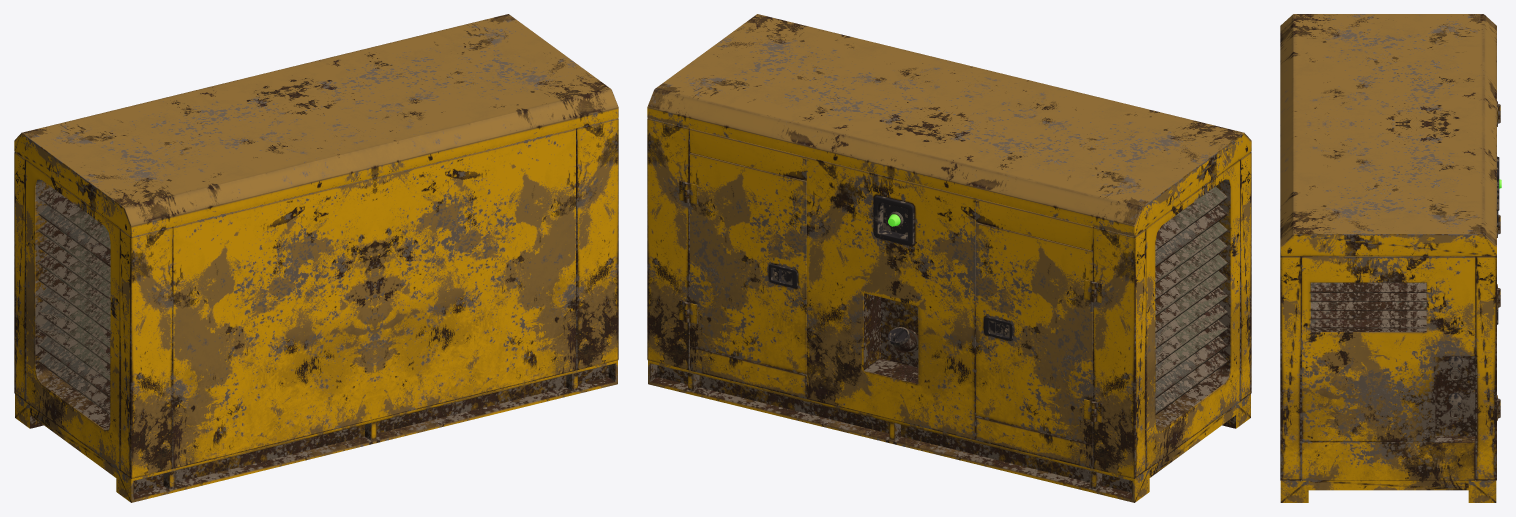
The model's file is SM_Genderator.fbx.
3 views of the same model, side by side, from view 1: azimuth 30°, elevation 25°; view 2: azimuth 150°, elevation 25°; view 3: azimuth 270°, elevation 25° (orthographic). The views are drawn at different scales.
Parts seen in each view (by area): view 1: SM_Genderator; view 2: SM_Genderator, SM_Genderator_Door; view 3: SM_Genderator.
Part boxes in pixels (<box>): SM_Genderator: <box>14,14,618,502</box>; SM_Genderator: <box>647,14,1251,502</box>; SM_Genderator_Door: <box>684,153,806,374</box>; SM_Genderator: <box>1280,14,1501,502</box>.
Size of the model in its own units: 3.2 by 1.82 by 1.36.
